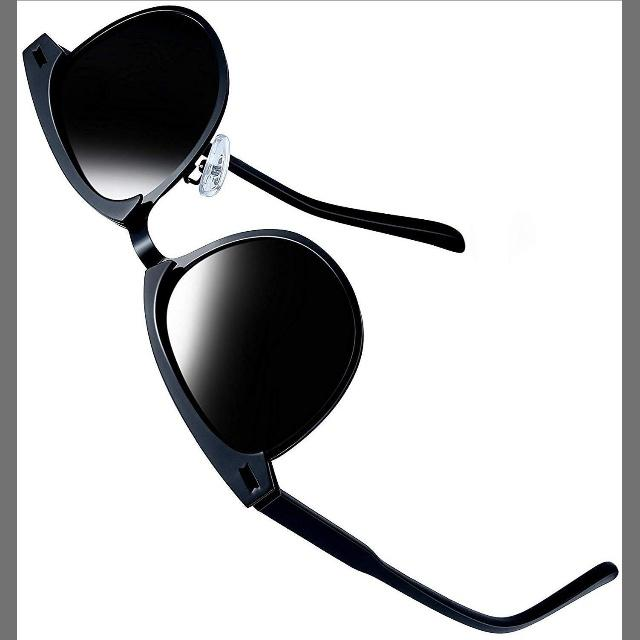Sunglasses: (18, 0, 622, 634)
